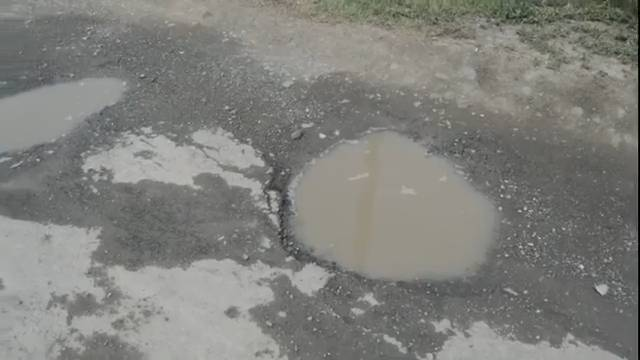pothole: (292, 50, 640, 192), (276, 114, 506, 302)
